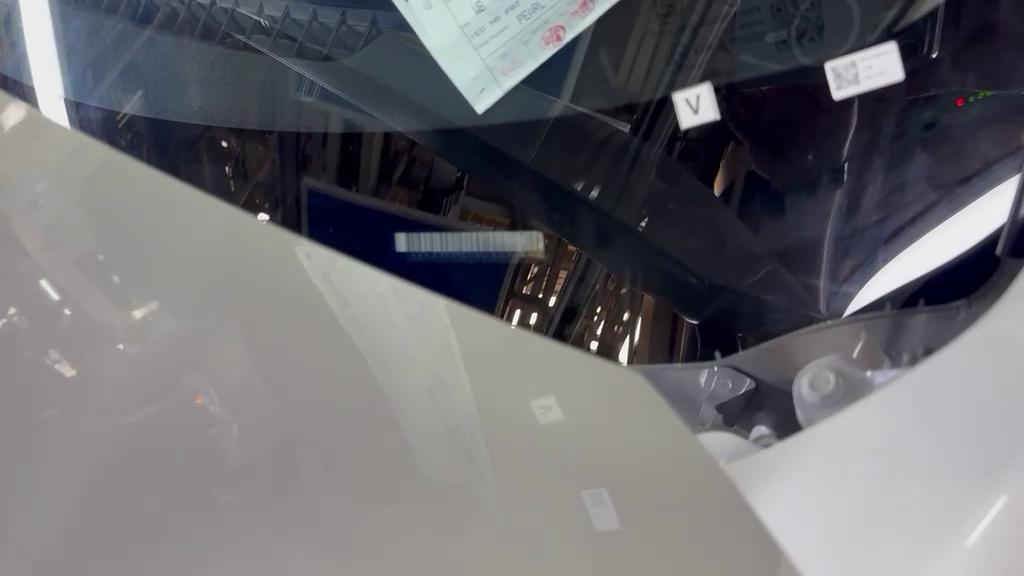hinge: (375, 213, 580, 277)
